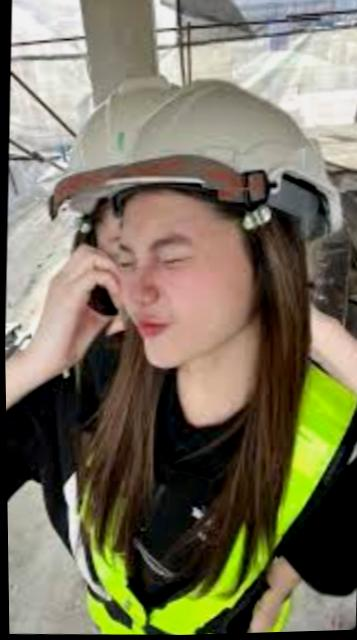helmet: (38, 54, 357, 257)
vest: (14, 311, 357, 640)
